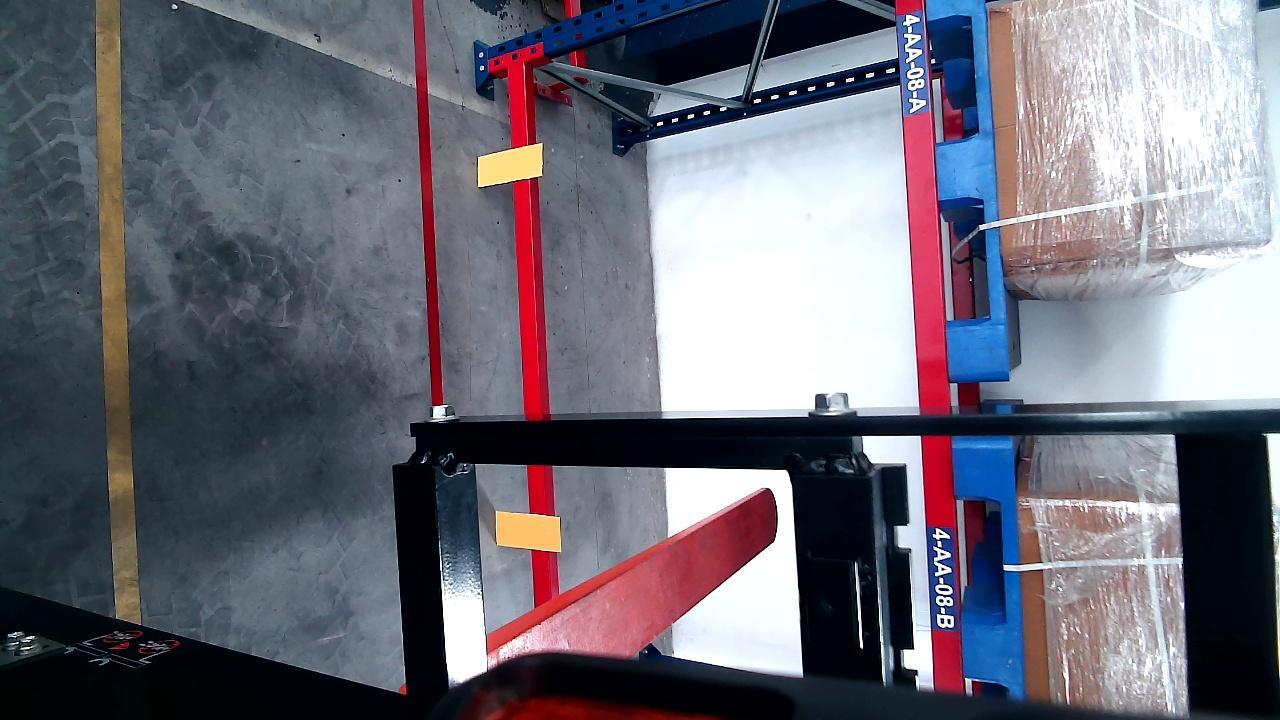red_line: (414, 0, 446, 416)
